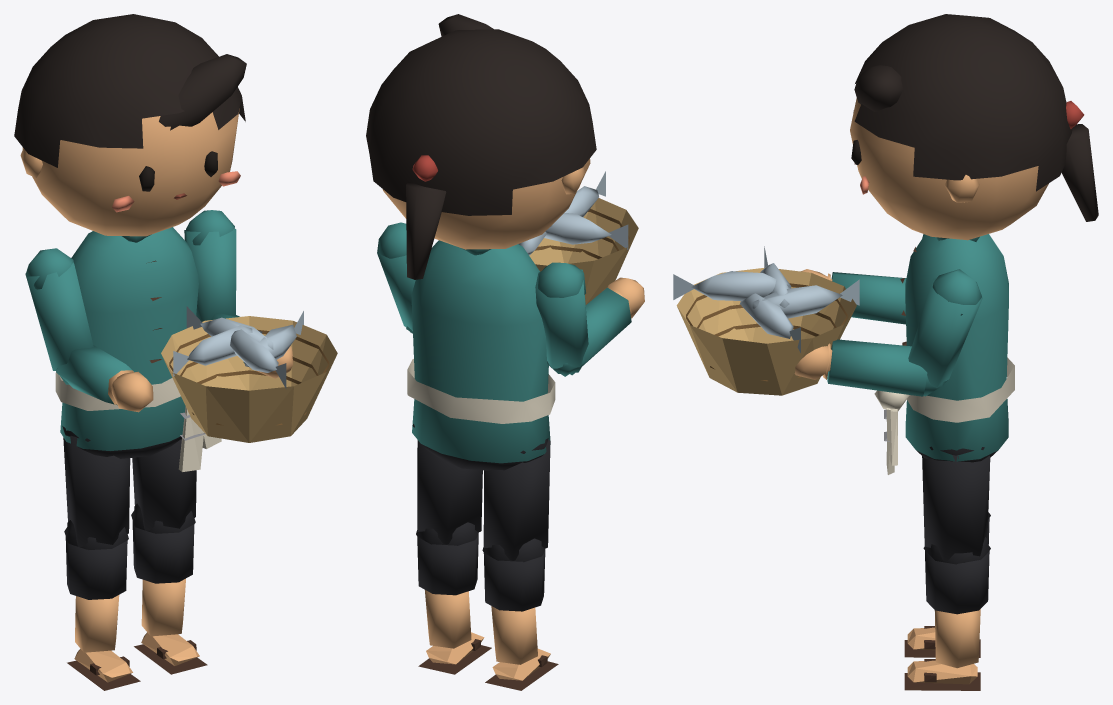
File: east_fish_woman.glb
3 views of the same model, side by side, from view 1: azimuth 30°, elevation 25°; view 2: azimuth 150°, elevation 25°; view 3: azimuth 270°, elevation 25° (orthographic).
Parts seen in each view (by area): view 1: head, body, prop_fish_basket, shin_L, shin_R, leg_R, arm_R, leg_L, arm_L, forearm_R; view 2: head, body, shin_L, shin_R, prop_fish_basket, leg_R, leg_L, arm_R, forearm_R, arm_L; view 3: head, body, prop_fish_basket, shin_L, leg_L, arm_L, forearm_L, forearm_R, shin_R.
Boxes of the visible parts, x1=… form: head: x1=14, y1=14, x2=246, y2=236; body: x1=55, y1=227, x2=221, y2=471; prop_fish_basket: x1=161, y1=306, x2=337, y2=442; shin_L: x1=132, y1=503, x2=207, y2=674; shin_R: x1=65, y1=520, x2=140, y2=690; leg_R: x1=62, y1=426, x2=130, y2=549; arm_R: x1=25, y1=248, x2=93, y2=370; leg_L: x1=131, y1=439, x2=196, y2=533; arm_L: x1=184, y1=210, x2=236, y2=321; forearm_R: x1=56, y1=345, x2=153, y2=412; head: x1=366, y1=14, x2=596, y2=279; body: x1=407, y1=240, x2=555, y2=470; shin_L: x1=417, y1=522, x2=491, y2=674; shin_R: x1=483, y1=538, x2=558, y2=690; prop_fish_basket: x1=518, y1=171, x2=638, y2=304; leg_R: x1=482, y1=438, x2=550, y2=562; leg_L: x1=412, y1=424, x2=482, y2=545; arm_R: x1=535, y1=262, x2=588, y2=376; forearm_R: x1=547, y1=277, x2=644, y2=375; arm_L: x1=377, y1=222, x2=415, y2=332; head: x1=850, y1=14, x2=1098, y2=240; body: x1=874, y1=234, x2=1014, y2=474; prop_fish_basket: x1=673, y1=246, x2=859, y2=395; shin_L: x1=904, y1=537, x2=989, y2=690; leg_L: x1=922, y1=446, x2=990, y2=564; arm_L: x1=908, y1=269, x2=982, y2=396; forearm_L: x1=794, y1=339, x2=945, y2=396; forearm_R: x1=801, y1=269, x2=906, y2=324; shin_R: x1=904, y1=518, x2=989, y2=657.
Bounding box in the file's own units: 0.4966 × 1.45 × 0.8738.
